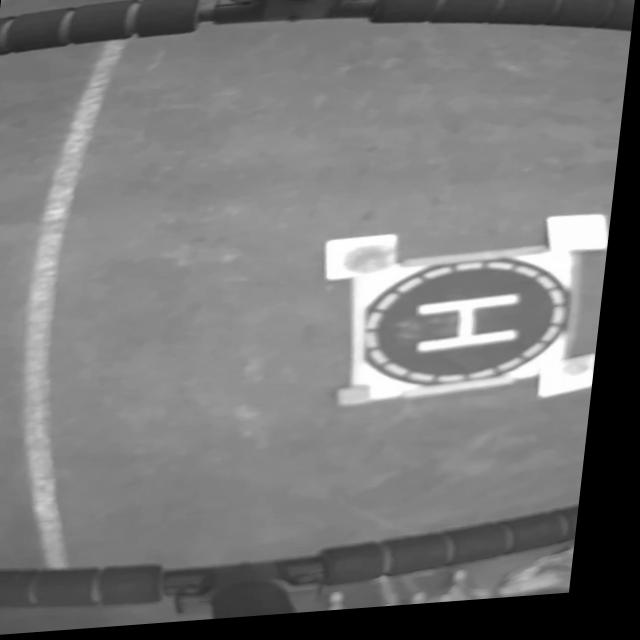Helipad: (425, 302, 528, 360)
